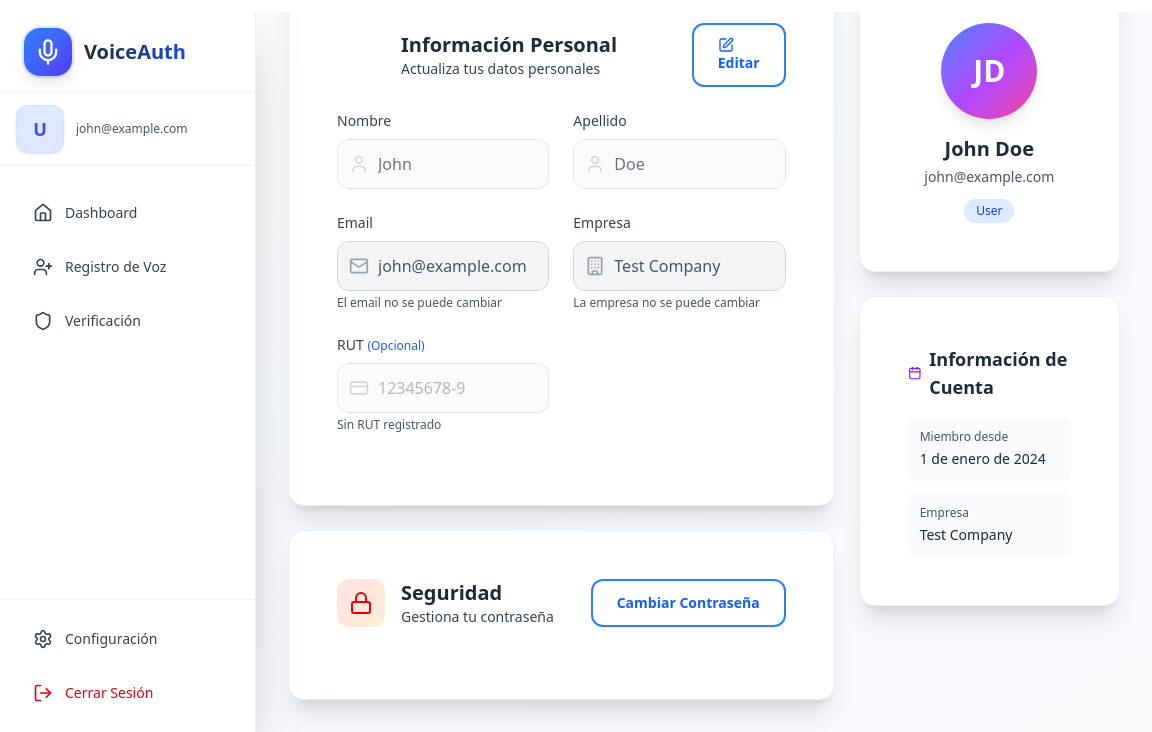
Test: ProfilePage › toggles password change section
(page scrolled)
Expected: the text "contraseña actual" is not shown
Click the button "Cambiar Contraseña": (688,603) [591, 579, 786, 627]
(page scrolled)
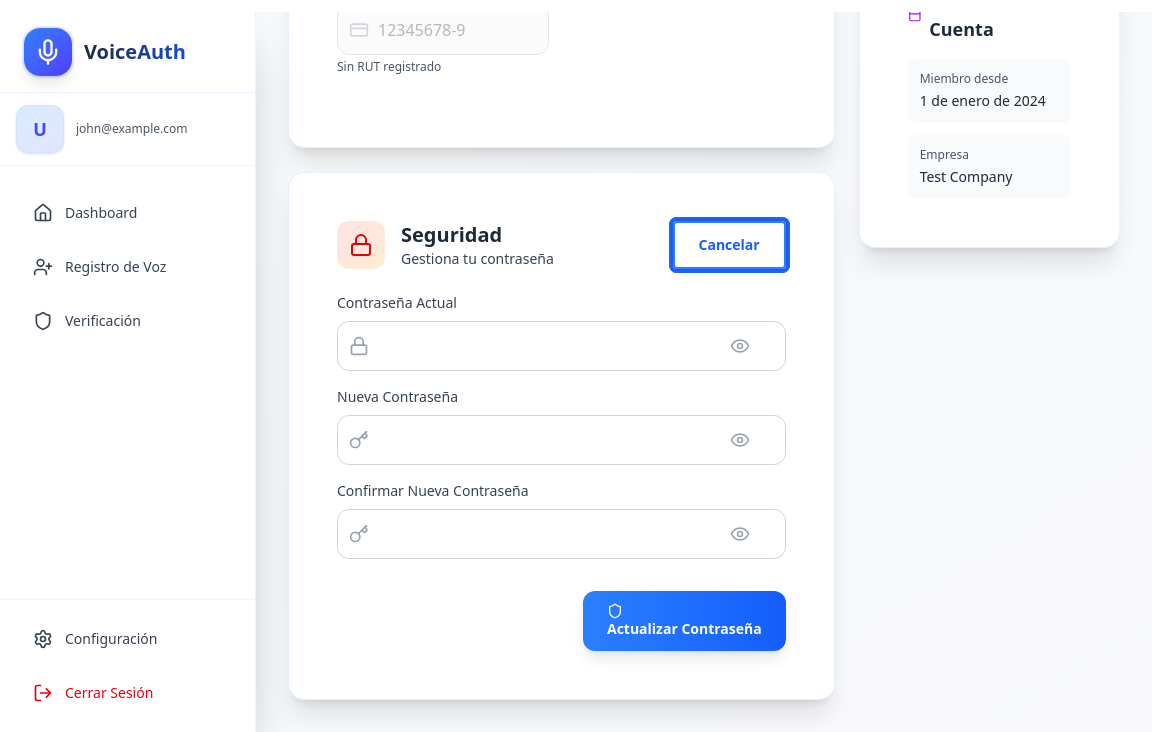
Now the text "Contraseña Actual" is shown, box [337, 293, 457, 312]
Now the text "Nueva Contraseña" is shown, box [337, 387, 458, 406]
